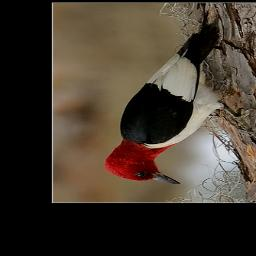Woodpecker: (101, 13, 256, 188)
